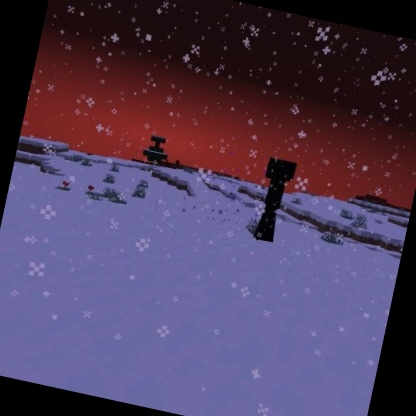enderman: (249, 155, 300, 247)
